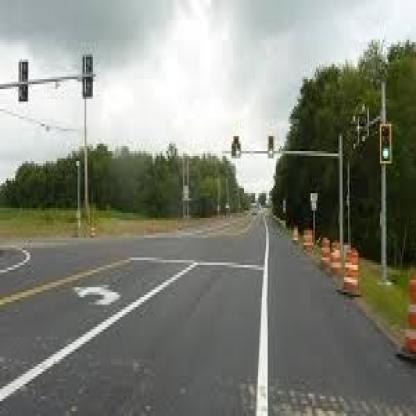Don-t Walk: (266, 135, 274, 158)
